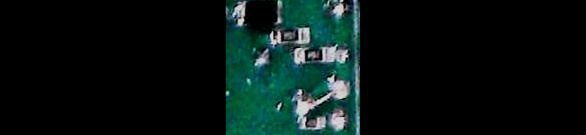chip-resistor: (294, 45, 338, 65), (270, 27, 311, 45), (298, 113, 330, 132)
diode: (232, 0, 284, 27)
